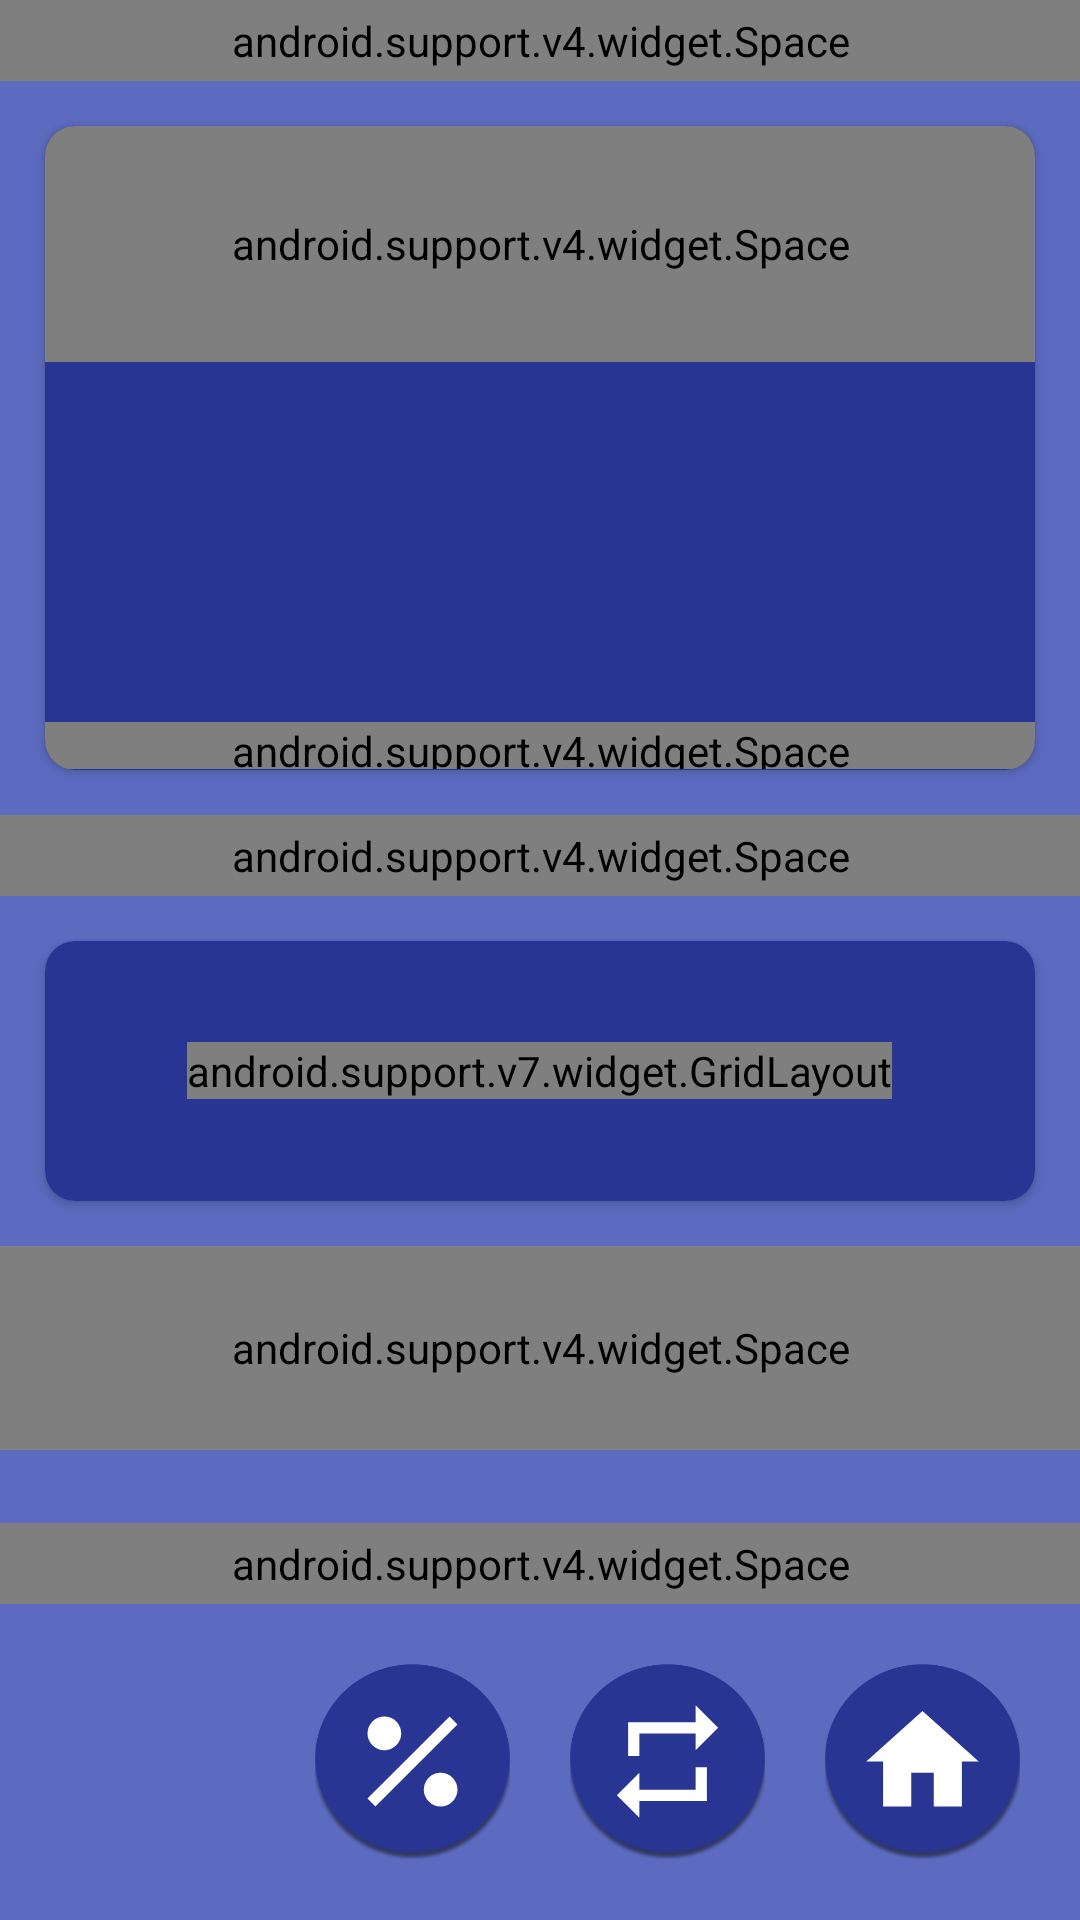

Icon click points for this 1080 x 1920 phone screenshot, format (x,y):
home: (922,1761)
percent: (412,1761)
repeat: (667,1761)
